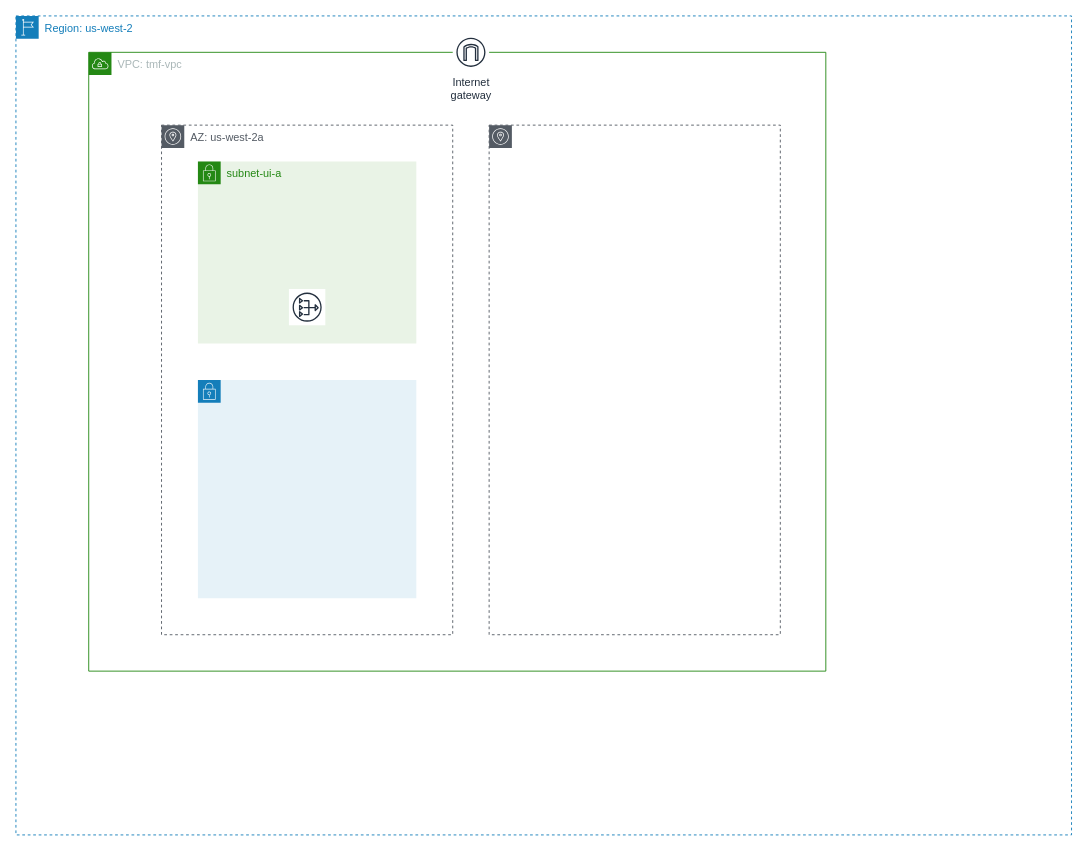
This 1087x851 diagram has some shape labels left out. Here are the shapes that lost their labels. From the top down, the centre of each, then its label:
At pixel 306 306: "nat-gw-0".
At pixel 634 379: "AZ: us-west2b".
At pixel 306 488: "subnet-eks-a".
